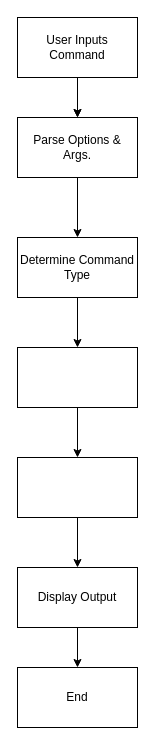
The diagram is 155 pixels wide and 745 high, and some of its shapes have lost their labels. The centre of each missing label's shape, as x and y in pixels:
"Branching Based on Cmd" goes at point (77, 377).
"Execute Cmd-Specific Logic" goes at point (77, 487).
